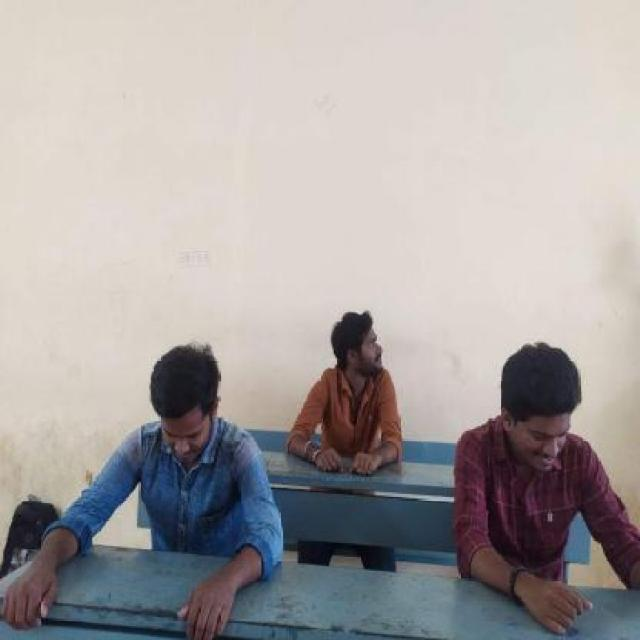cheating: (275, 303, 416, 484)
good: (6, 325, 292, 640), (442, 320, 640, 640)
